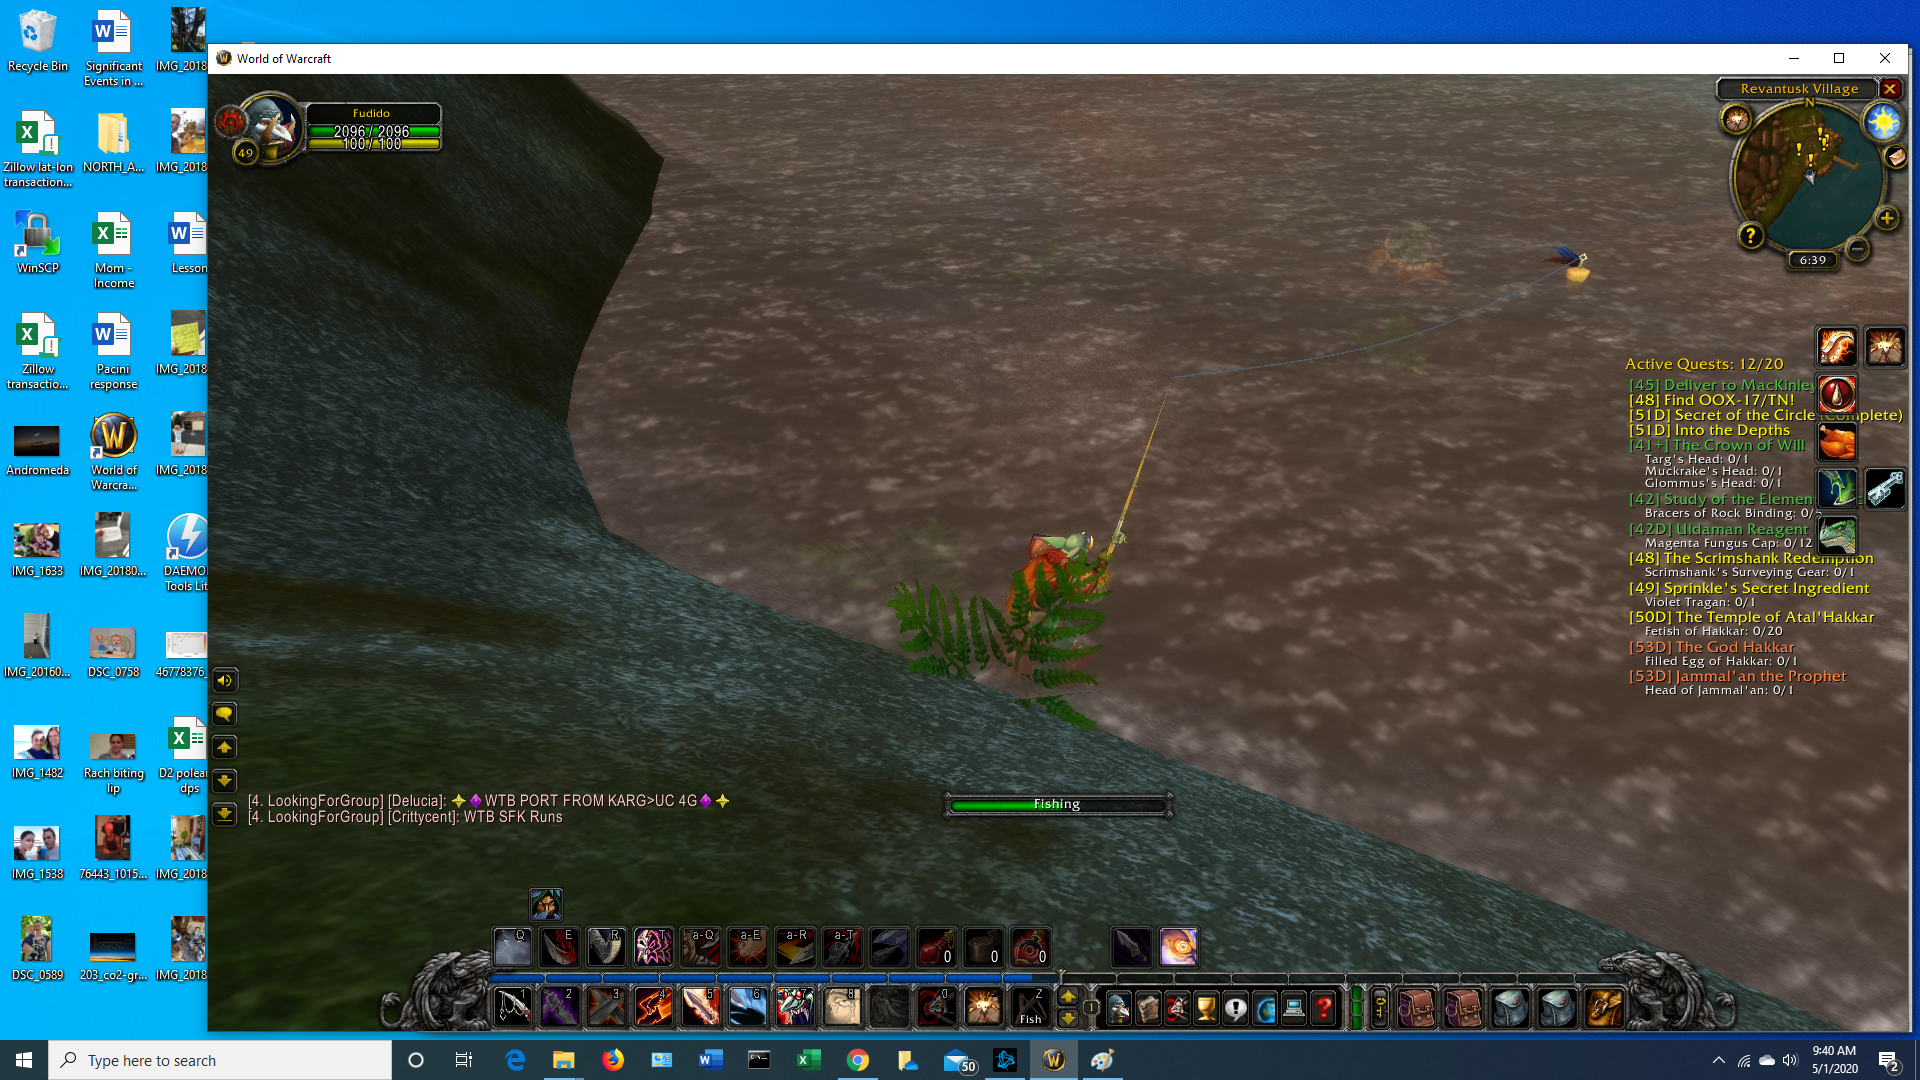bobble: (1540, 237, 1597, 290)
